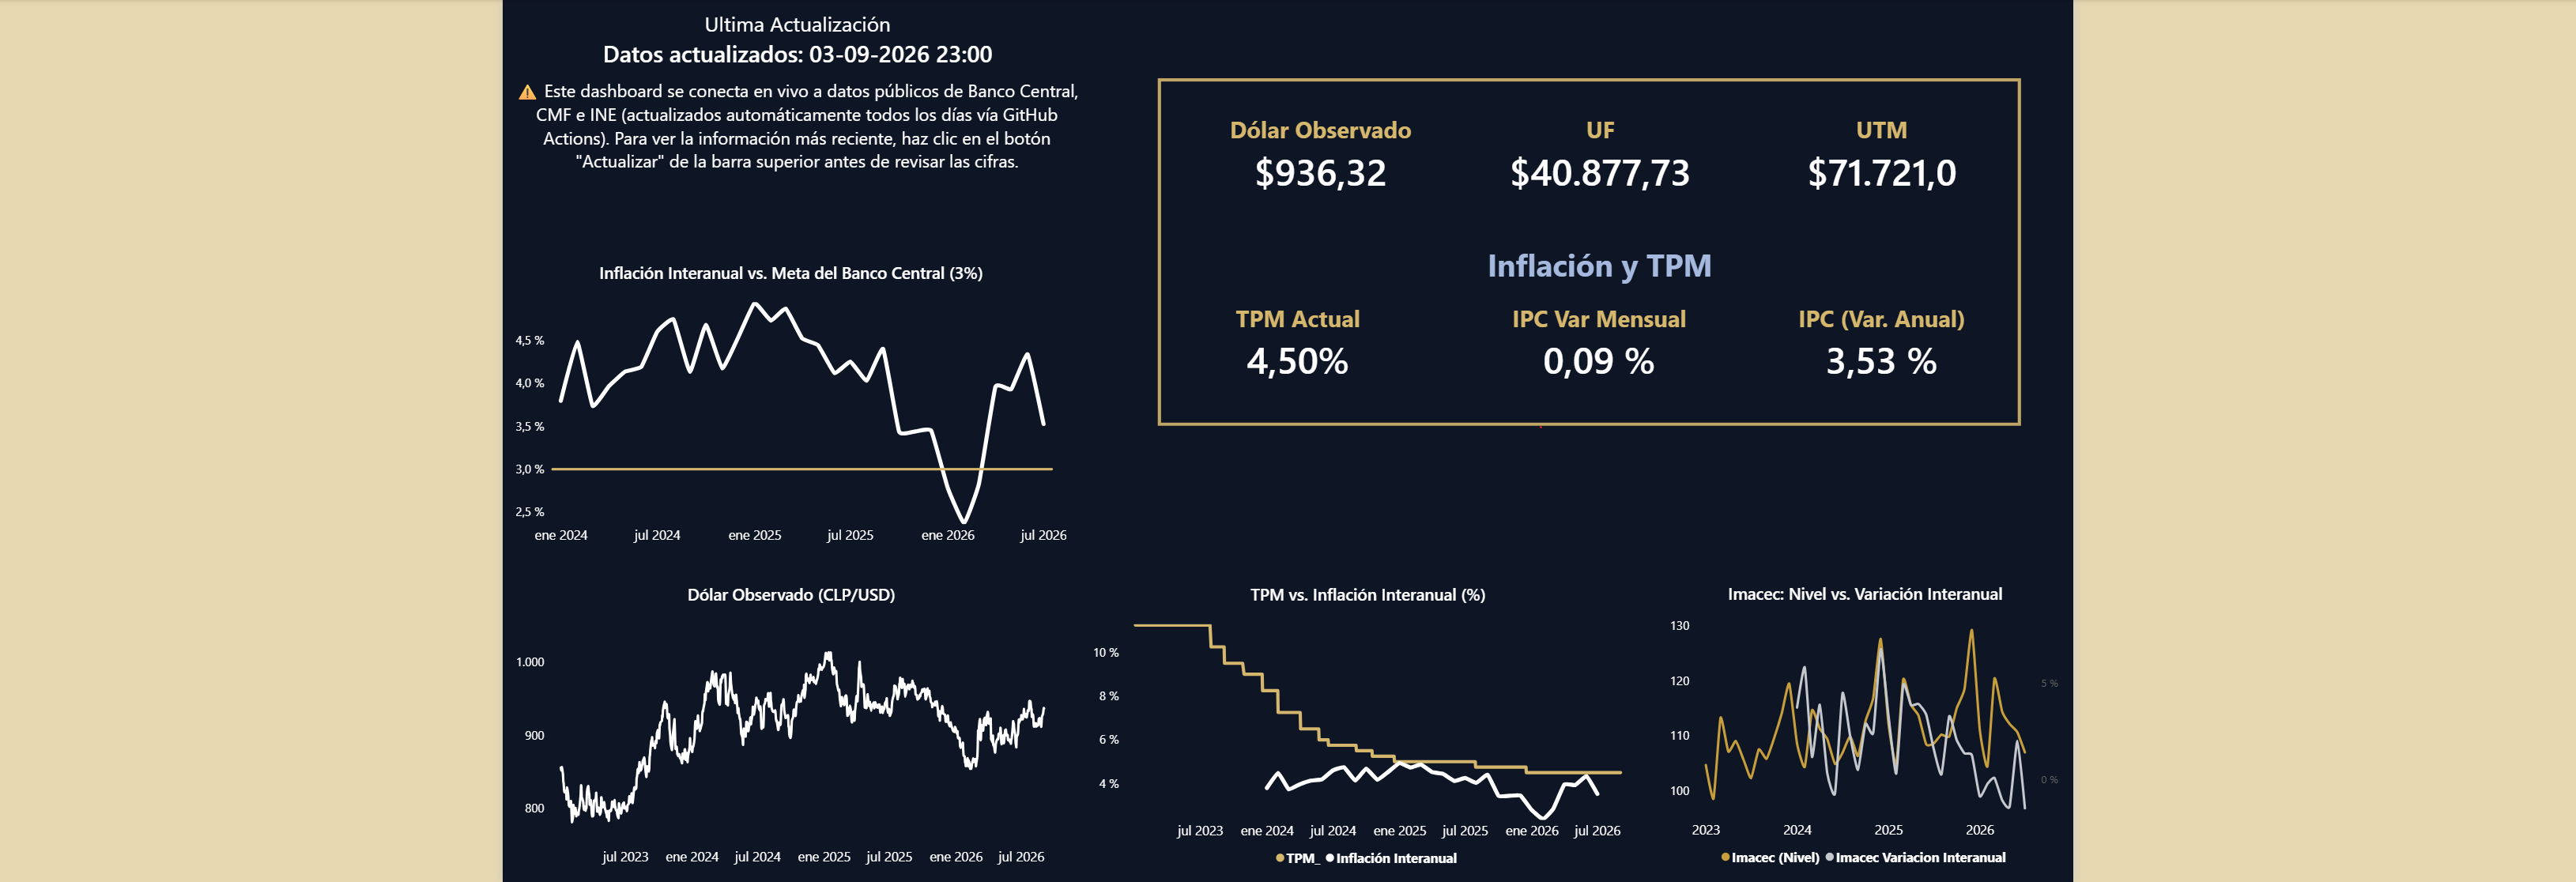

This screenshot's page, from the dashboard's own definition file:
{"tool":"powerbi","page":{"name":"Panorama Macro","canvas":[1920,1080],"ordinal":0},"visuals":[{"type":"cardVisual","fields":{"Data":["Calendario.Ultima_Actualizacion"]},"box":[105,0,509.4,97.2],"z":0,"group":"g2"},{"type":"group","id":"g1","title":"Grupo 1","box":[800,115,1056.7,381.7],"z":0},{"type":"cardVisual","fields":{"Data":["CMF_Indicadores.Dolar_Hoy"]},"box":[828,115,343.3,151.7],"z":0,"group":"g1"},{"type":"lineChart","title":"Dólar Observado (CLP/USD)","fields":{"Category":["Calendario.Date"],"Y":["Avg(Banco_Central.dolar_observado)"]},"box":[0,698.4,705.7,381.6],"z":0,"group":"g3"},{"type":"textbox","box":[0,97.2,719.5,152.3],"z":1000,"group":"g2"},{"type":"cardVisual","fields":{"Data":["CMF_Indicadores.UF_Hoy_Texto"]},"box":[1169.1,115.6,343.3,151.7],"z":1000,"group":"g1"},{"type":"lineChart","title":"TPM vs. Inflación Interanual (%)","fields":{"Category":["Calendario.Date"],"Y":["Banco_Central.TPM_Promedio_Chart","Banco_Central.IPC_Variacion_Interanual_Chart"]},"box":[705,698.3,705,381.7],"z":1000,"group":"g3"},{"type":"lineChart","title":"Imacec: Nivel vs. Variación Interanual","fields":{"Category":["Calendario.Date"],"Y":["Avg(Banco_Central.imacec)"],"Y2":["Banco_Central.Imacec_Variacion_Interanual"]},"box":[1410,698.3,510,381.7],"z":1000},{"type":"group","id":"g2","title":"Grupo 2","box":[0,0,719.5,249.5],"z":2000},{"type":"cardVisual","fields":{"Data":["CMF_Indicadores.UTM_Hoy_Texto"]},"box":[1513.7,115,343.3,151.7],"z":2000,"group":"g1"},{"type":"lineChart","title":"Inflación Interanual vs. Meta del Banco Central (3%)","fields":{"Category":["Calendario.Date"],"Y":["Banco_Central.IPC_Variacion_Interanual_Chart"]},"box":[0,305,705,381.7],"z":2000,"group":"g3"},{"type":"group","id":"g3","title":"Grupo 3","box":[0,305,1410,775],"z":3000},{"type":"cardVisual","fields":{"Data":["Banco_Central.IPC_Var_Anual_Hoy"]},"box":[1514,345.3,343.3,151.7],"z":3000,"group":"g1"},{"type":"shape","box":[800,96.7,1055,425],"z":4000},{"type":"cardVisual","fields":{"Data":["Banco_Central.IPC_Var_Mensual_Hoy"]},"box":[1168,345.3,343.3,151.7],"z":4000,"group":"g1"},{"type":"textbox","box":[1142,299.9,397.1,61.4],"z":5000,"group":"g1"},{"type":"cardVisual","fields":{"Data":["Banco_Central.TPM_Actual"]},"box":[800,345.3,343.3,151.7],"z":6000,"group":"g1"}]}

Visuals, with their boxes on the page's 1920x1080 design canvas (x1, y1, x2, y2). These are canvas units, not pixel positions in the 2576x882 screenshot, which may show the page scaled, cropped or inside an application window:
cardVisual - Calendario.Ultima_Actualizacion: pyautogui.locateOnScreen(105, 0, 614, 97)
"Grupo 1" group: pyautogui.locateOnScreen(800, 115, 1857, 497)
cardVisual - CMF_Indicadores.Dolar_Hoy: pyautogui.locateOnScreen(828, 115, 1171, 267)
"Dólar Observado (CLP/USD)" lineChart: pyautogui.locateOnScreen(0, 698, 706, 1080)
textbox: pyautogui.locateOnScreen(0, 97, 720, 250)
cardVisual - CMF_Indicadores.UF_Hoy_Texto: pyautogui.locateOnScreen(1169, 116, 1512, 267)
"TPM vs. Inflación Interanual (%)" lineChart: pyautogui.locateOnScreen(705, 698, 1410, 1080)
"Imacec: Nivel vs. Variación Interanual" lineChart: pyautogui.locateOnScreen(1410, 698, 1920, 1080)
"Grupo 2" group: pyautogui.locateOnScreen(0, 0, 720, 250)
cardVisual - CMF_Indicadores.UTM_Hoy_Texto: pyautogui.locateOnScreen(1514, 115, 1857, 267)
"Inflación Interanual vs. Meta del Banco Central (3%)" lineChart: pyautogui.locateOnScreen(0, 305, 705, 687)
"Grupo 3" group: pyautogui.locateOnScreen(0, 305, 1410, 1080)
cardVisual - Banco_Central.IPC_Var_Anual_Hoy: pyautogui.locateOnScreen(1514, 345, 1857, 497)
shape: pyautogui.locateOnScreen(800, 97, 1855, 522)
cardVisual - Banco_Central.IPC_Var_Mensual_Hoy: pyautogui.locateOnScreen(1168, 345, 1511, 497)
textbox: pyautogui.locateOnScreen(1142, 300, 1539, 361)
cardVisual - Banco_Central.TPM_Actual: pyautogui.locateOnScreen(800, 345, 1143, 497)
